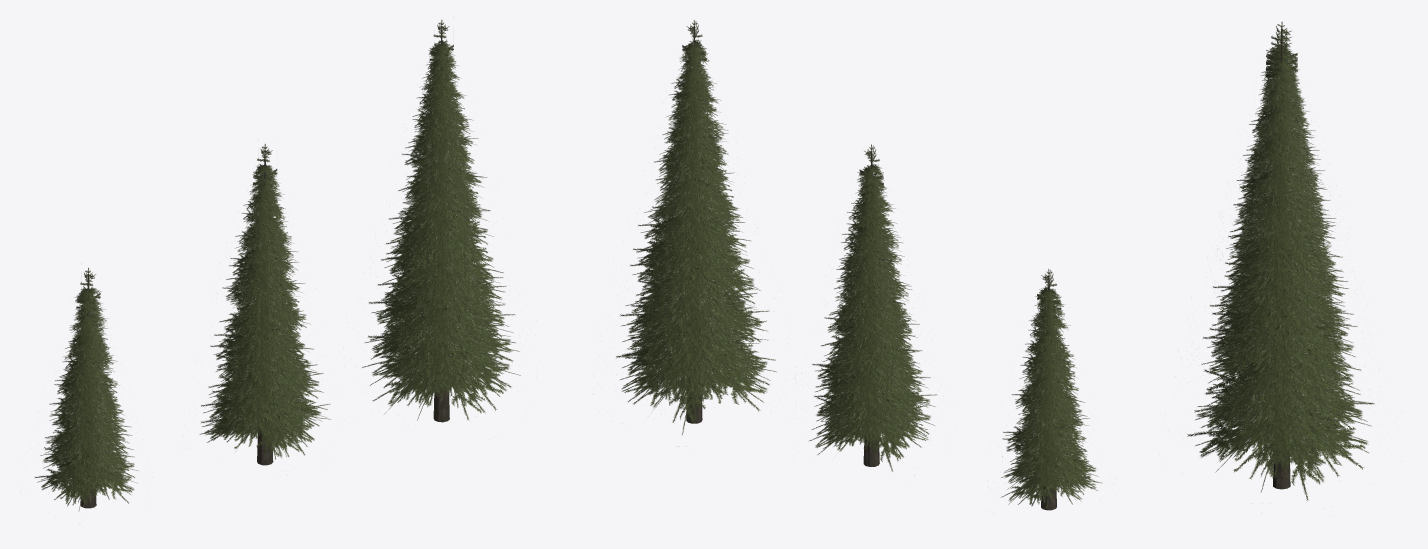
Rendered from conifer.glb.
3 views of the same model, side by side, from view 1: azimuth 30°, elevation 25°; view 2: azimuth 150°, elevation 25°; view 3: azimuth 270°, elevation 25° (orthographic). The views are drawn at different scales.
Visible parts, largest first — view 1: fir_2, fir_1, fir_0; view 2: fir_2, fir_1, fir_0; view 3: fir_2, fir_1, fir_0.
Boxes of the visible parts, box(x1,y1,x2,y2) form: fir_2: box(362, 20, 520, 422); fir_1: box(199, 144, 330, 465); fir_0: box(35, 267, 137, 511); fir_2: box(616, 20, 776, 434); fir_1: box(809, 144, 936, 471); fir_0: box(1001, 269, 1101, 510); fir_2: box(1187, 34, 1374, 500); fir_1: box(1203, 28, 1357, 366); fir_0: box(1226, 22, 1342, 281).
Bounding box in the file's own units: 23.35 × 17.65 × 9.09.
2 materials, 2 textured.
